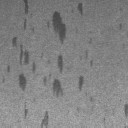red iron: (2, 0, 93, 98), (24, 109, 50, 128), (124, 104, 128, 116), (119, 23, 123, 30)
